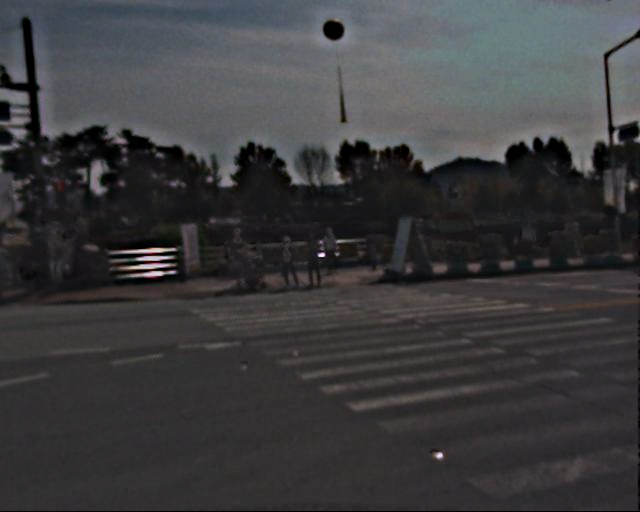person: (31, 228, 66, 287), (227, 227, 252, 289), (1, 228, 23, 292), (279, 232, 303, 290), (305, 230, 328, 287), (322, 222, 343, 274), (511, 230, 524, 262)
